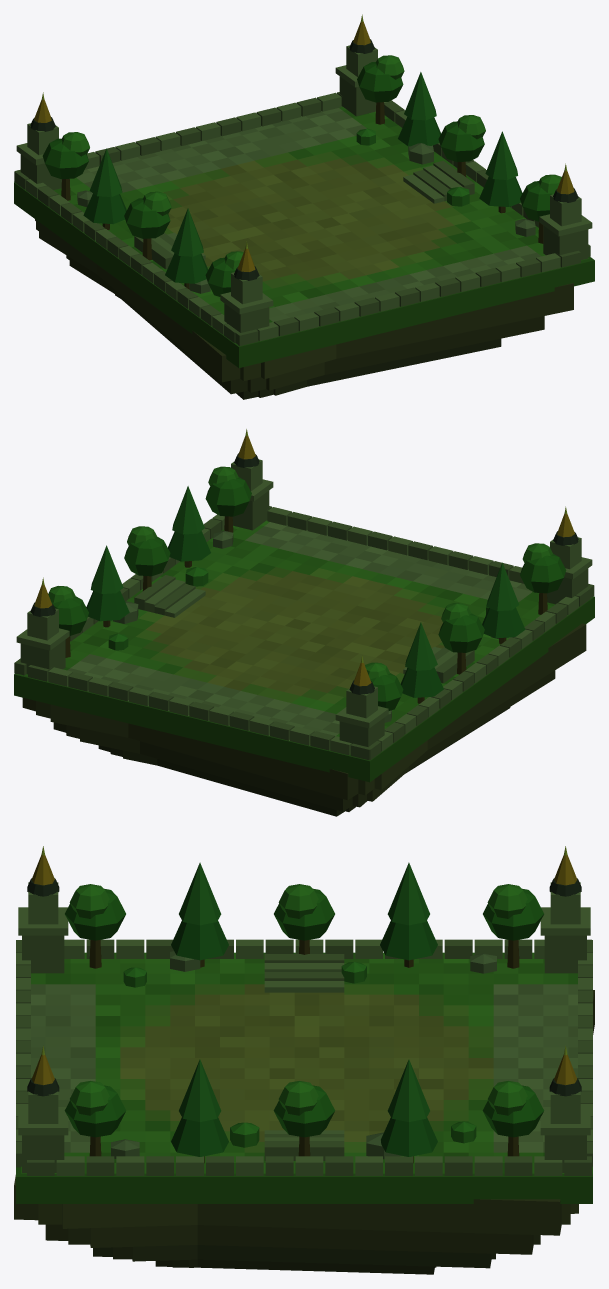
Rendered from SM_ArenaBase.glb.
The picture shows the model from 3 angles, top to bottom: view 1: azimuth 30°, elevation 25°; view 2: azimuth 150°, elevation 25°; view 3: azimuth 270°, elevation 25°; orthographic projection. The views are drawn at different scales.
Visible parts, largest first — view 1: SM_ArenaBase; view 2: SM_ArenaBase; view 3: SM_ArenaBase.
Part boxes in pixels (box(x1,y1,x2,y2)): SM_ArenaBase: box(14, 14, 594, 399); SM_ArenaBase: box(14, 429, 594, 816); SM_ArenaBase: box(14, 846, 594, 1274).
Size of the model in its own units: 10.84 by 5.92 by 11.68.
